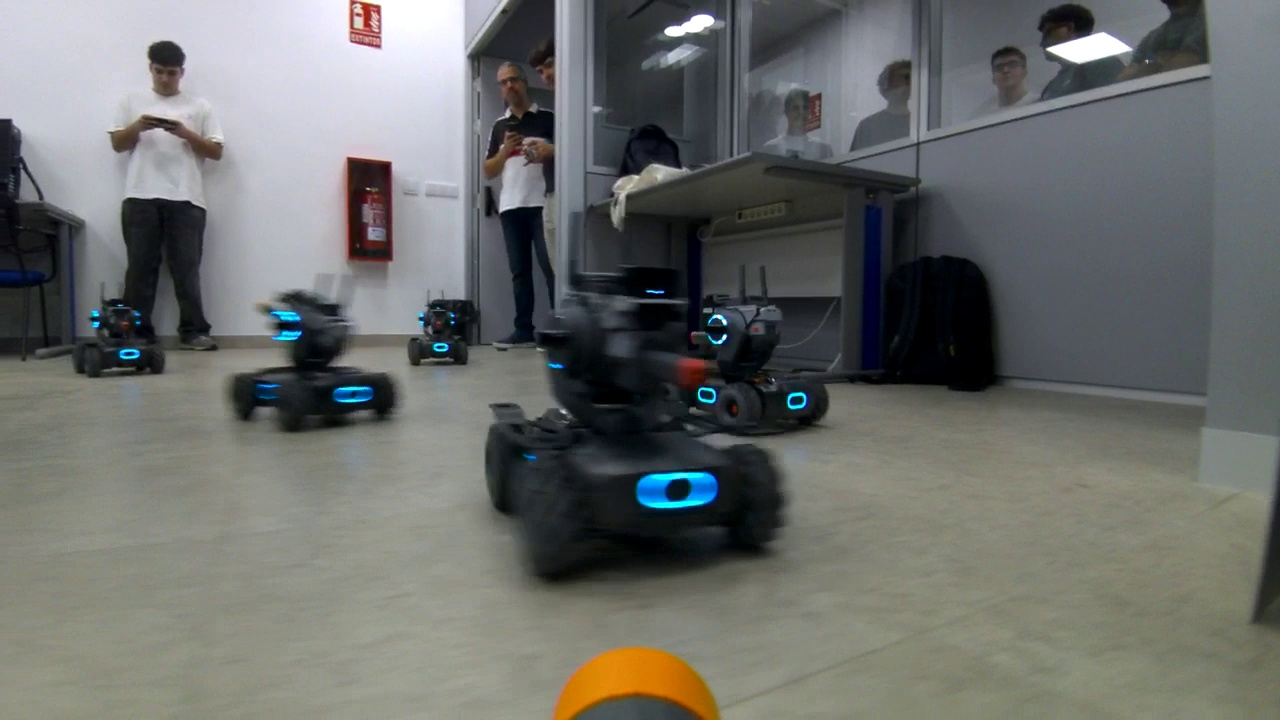robot: (490, 216, 795, 582), (670, 252, 831, 446), (231, 269, 402, 431), (75, 278, 173, 381), (410, 286, 476, 368)
